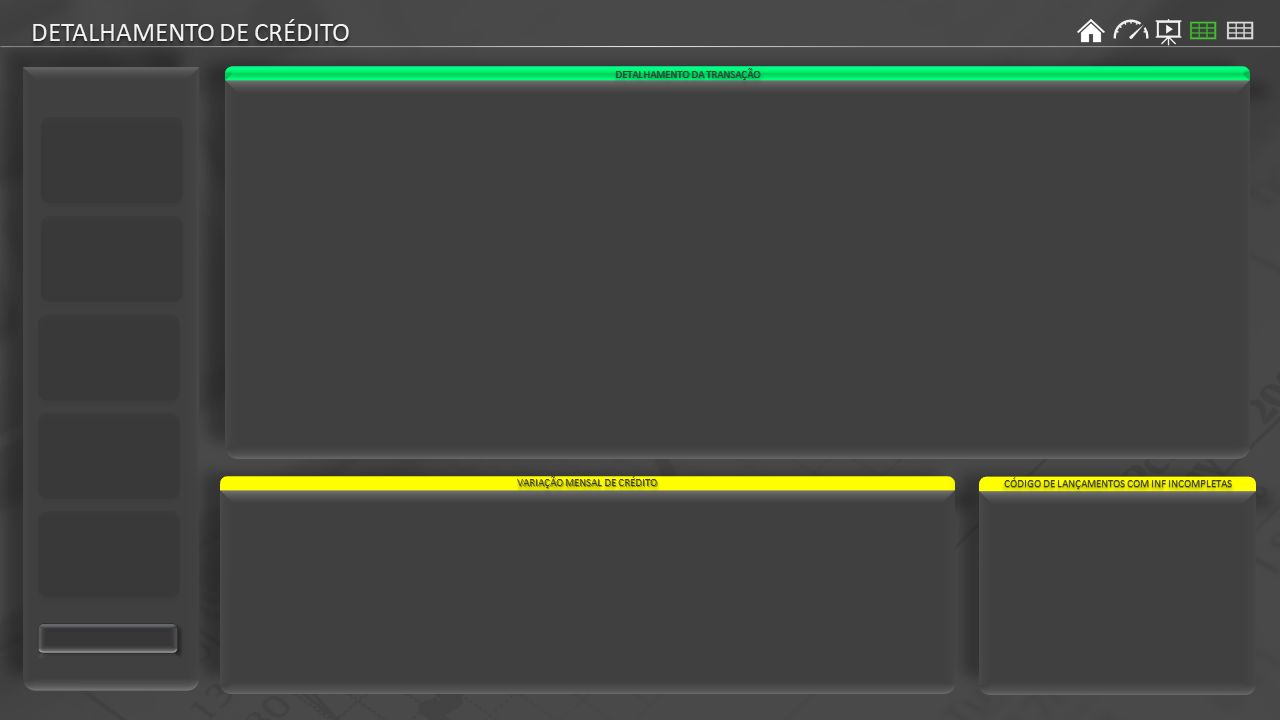

Layout of this report page (visuals, bound fields, positions):
{"tool":"powerbi","page":{"name":"Detalhamento de Credito","canvas":[1280,720],"ordinal":3},"visuals":[{"type":"actionButton","box":[43,625,130,28],"z":0},{"type":"slicer","fields":{"Values":["dimCalendario.Ano"]},"box":[36,120,144,80],"z":1000},{"type":"actionButton","title":"Botão Home","box":[1072,16,32,32],"z":2000},{"type":"slicer","fields":{"Values":["dimCalendario.Nome do Mes"]},"box":[36,220,144,80],"z":3000},{"type":"actionButton","title":"Botão Detalh Credito","box":[1149,15,32,32],"z":4000},{"type":"slicer","fields":{"Values":["dimContas.Empresa"]},"box":[36,514,144,80],"z":5000},{"type":"actionButton","title":"Botão Detalh Debito","box":[1224,16,32,32],"z":6000},{"type":"slicer","fields":{"Values":["fCredito.Origem"]},"box":[32,416,144,80],"z":7000},{"type":"slicer","fields":{"Values":["dimContas.Instituição"]},"box":[36,318,144,80],"z":8000},{"type":"tableEx","fields":{"Values":["fCredito.Cod. de lançamento","fCredito.Data","fCredito.NF","dimContas.Instituição","dimContas.Empresa","dimContas.Conta","fCredito.Origem","Sum(fCredito.Valor)","fCredito.Observação"]},"box":[225,80,1024,368],"z":9000},{"type":"tableEx","fields":{"Values":["dimCalendario.Nome do Mes","_Medidas.Total Crédito","_Medidas.Total Crédito (Mês Anterior)","_Medidas.Total Crédito (% MoM)"]},"box":[380,487,500,200],"z":10000},{"type":"tableEx","title":"STATUS DE LANÇAMENTO","fields":{"Values":["fDebito.Status de Lançamento"]},"box":[1070,490,115,200],"z":11000},{"type":"actionButton","title":"Botão Detalh Credito","box":[1120,16,32,32],"z":12000}]}

Visuals, with their boxes in screenshot pixels (x1, y1, x2, y2), scaled from the page's 1280x720 canvas onto the 1280x720 screenshot:
actionButton: box=[43, 625, 173, 653]
slicer - dimCalendario.Ano: box=[36, 120, 180, 200]
"Botão Home" actionButton: box=[1072, 16, 1104, 48]
slicer - dimCalendario.Nome do Mes: box=[36, 220, 180, 300]
"Botão Detalh Credito" actionButton: box=[1149, 15, 1181, 47]
slicer - dimContas.Empresa: box=[36, 514, 180, 594]
"Botão Detalh Debito" actionButton: box=[1224, 16, 1256, 48]
slicer - fCredito.Origem: box=[32, 416, 176, 496]
slicer - dimContas.Instituição: box=[36, 318, 180, 398]
tableEx - fCredito.Cod. de lançamento x fCredito.Data: box=[225, 80, 1249, 448]
tableEx - dimCalendario.Nome do Mes x _Medidas.Total Crédito: box=[380, 487, 880, 687]
"STATUS DE LANÇAMENTO" tableEx: box=[1070, 490, 1185, 690]
"Botão Detalh Credito" actionButton: box=[1120, 16, 1152, 48]
